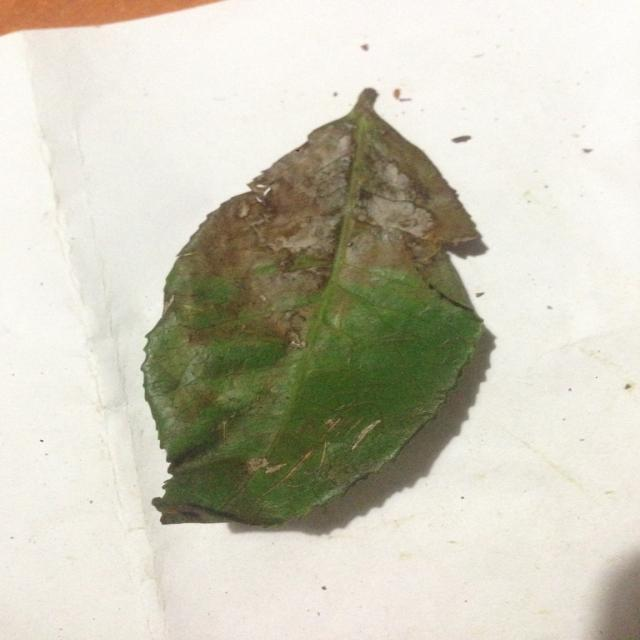Red Leaf Spot: (94, 76, 512, 530)
